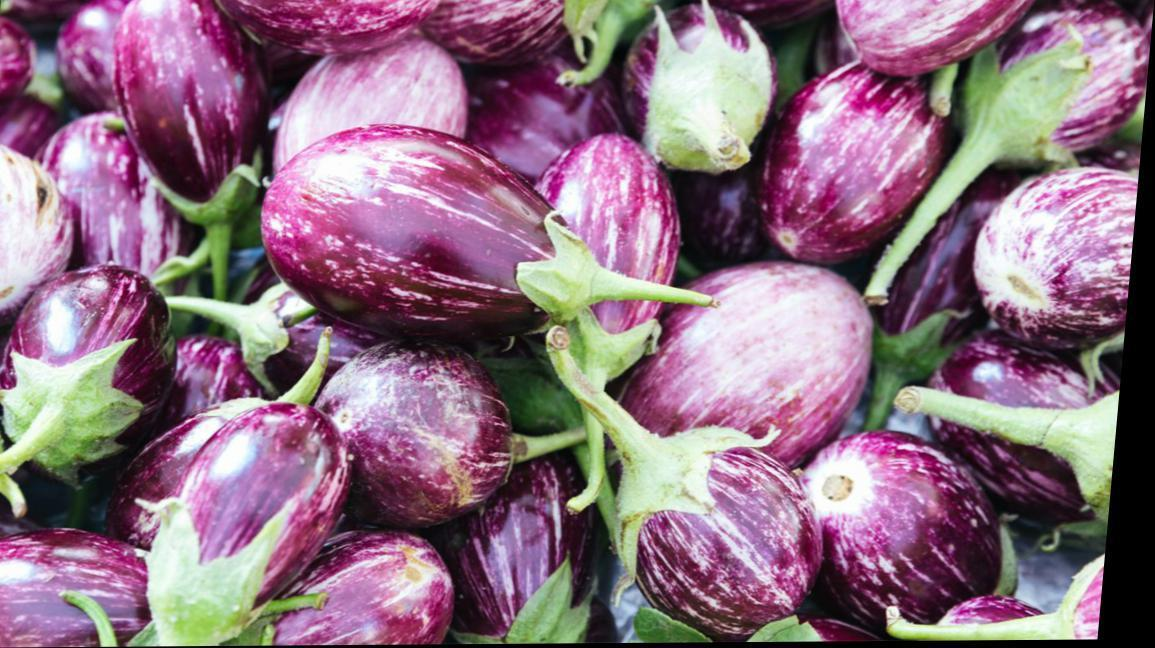eggplant: (0, 0, 1150, 644), (680, 264, 1135, 643), (247, 135, 702, 373), (156, 409, 378, 638), (0, 220, 200, 459)
